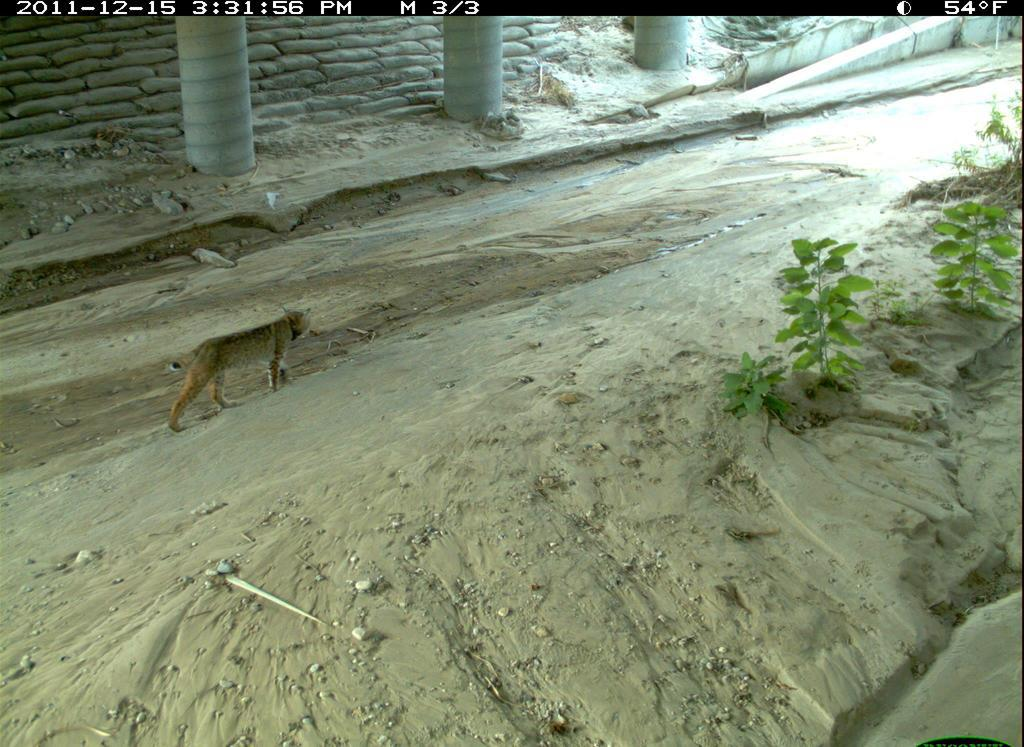bobcat: (144, 296, 331, 441)
